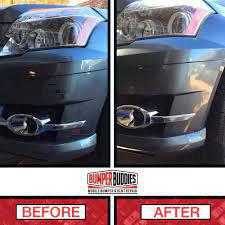front-bumper-dent: (0, 38, 115, 159)
